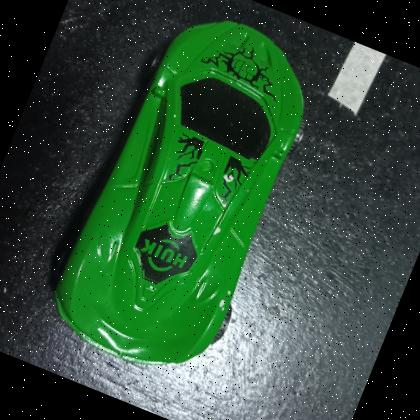Car: (33, 0, 341, 395)
